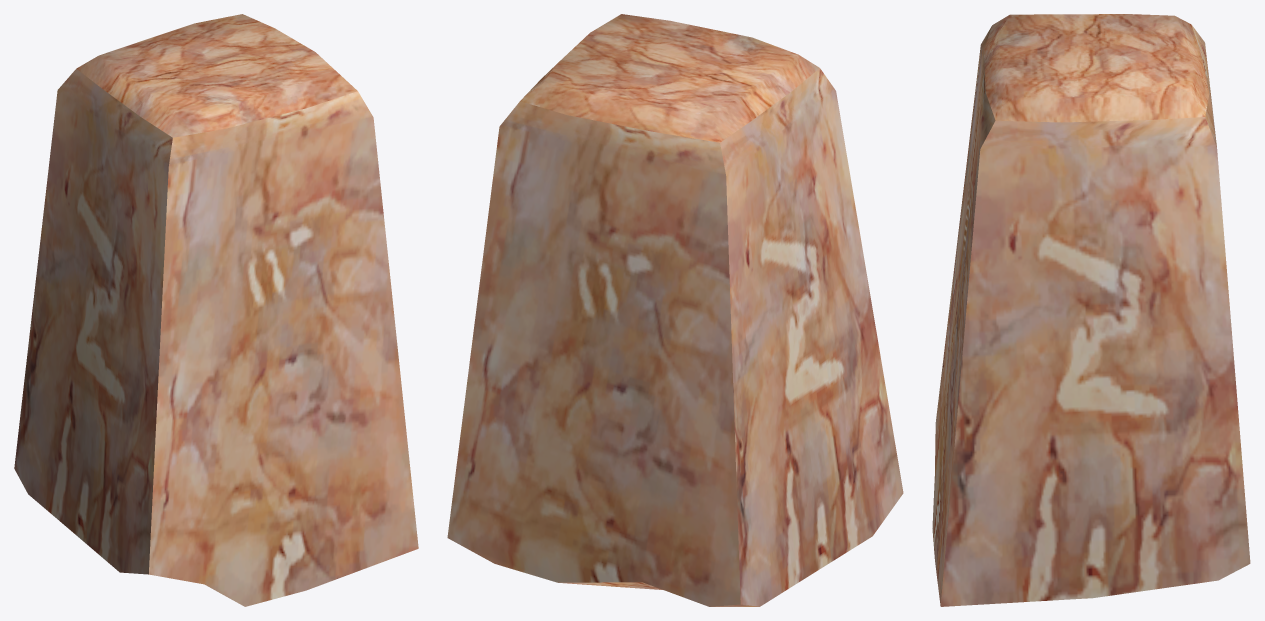
File: kor_vod_ruins_pillar02_top.glb
3 views of the same model, side by side, from view 1: azimuth 30°, elevation 25°; view 2: azimuth 150°, elevation 25°; view 3: azimuth 270°, elevation 25° (orthographic). The views are drawn at different scales.
Parts seen in each view (by area): view 1: kor_vod_ruins_pillar02_top; view 2: kor_vod_ruins_pillar02_top; view 3: kor_vod_ruins_pillar02_top.
Part boxes in pixels (x1,y1,x2,y2): kor_vod_ruins_pillar02_top: (14, 14, 418, 606); kor_vod_ruins_pillar02_top: (447, 14, 903, 606); kor_vod_ruins_pillar02_top: (932, 14, 1250, 606).
Size of the model in its own units: 0.3107 by 0.5119 by 0.2952.
Materials: 1 (1 with a texture image).
